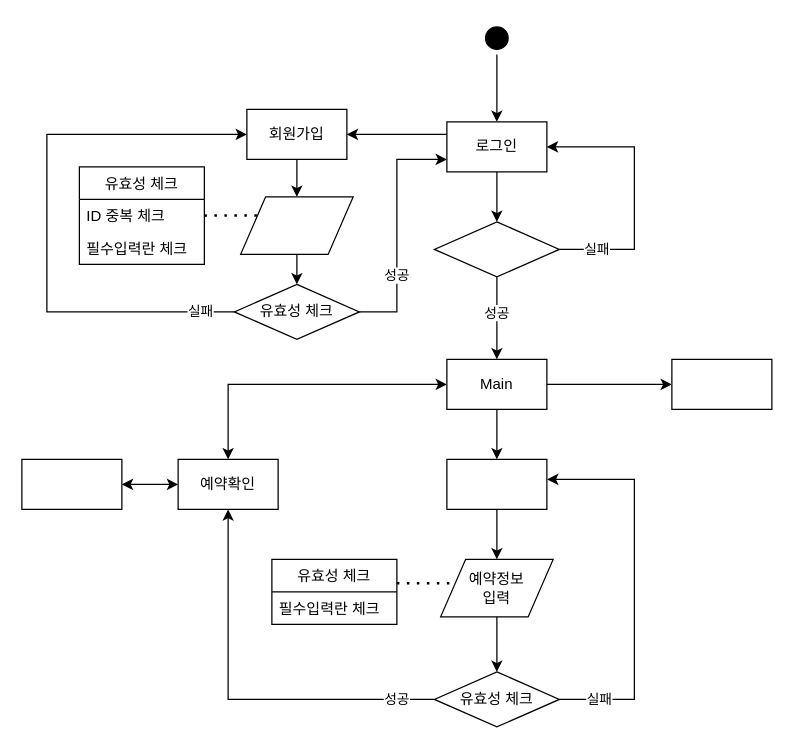
Some shapes in this 794 by 749 pixel diagram are drawn without their labels. The centre of each missing label's shape, as x and y in pixels:
ID/PW체크: the point at 496,249
개인정보관리: the point at 721,383
예약: the point at 496,483
예약취소: the point at 71,483
회원정보 입력: the point at 296,225
